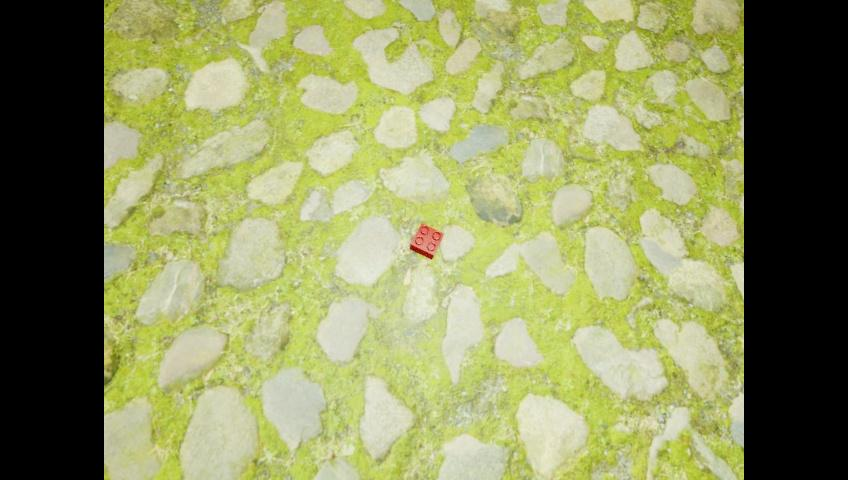2x2_red: (410, 222, 443, 259)
